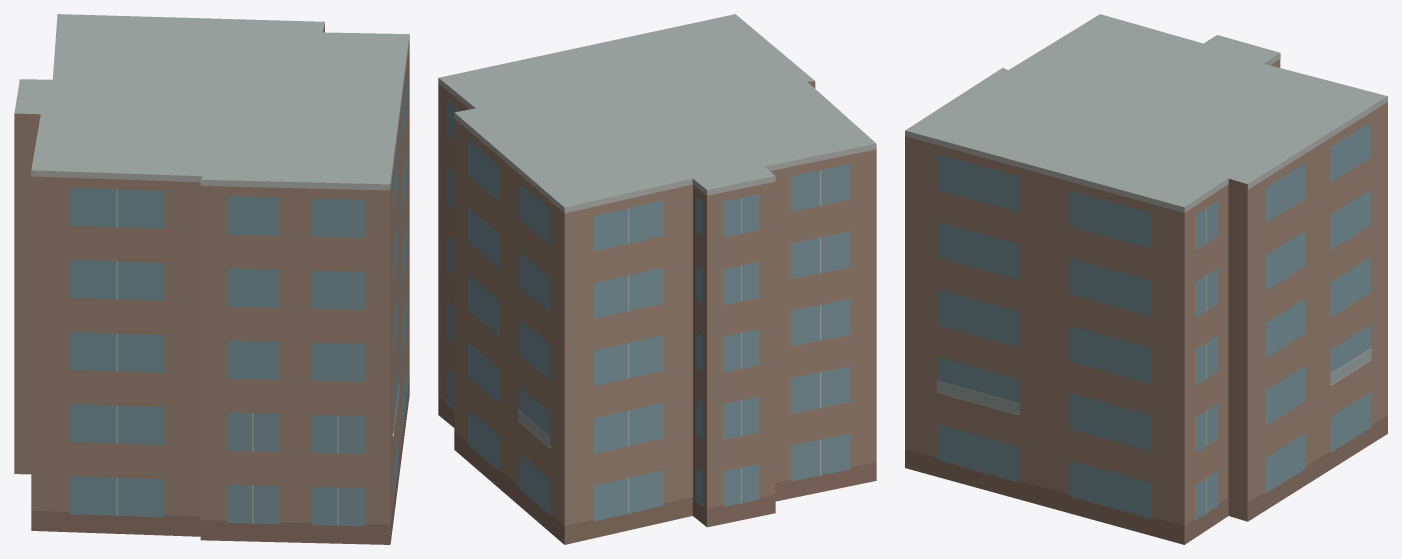
File: survey-upis-32687475.glb
The picture shows the model from 3 angles, left to right: view 1: azimuth 30°, elevation 25°; view 2: azimuth 150°, elevation 25°; view 3: azimuth 270°, elevation 25°; orthographic projection. The views are drawn at different scales.
Parts seen in each view (by area): view 1: survey-upis-32687475.tmp; view 2: survey-upis-32687475.tmp; view 3: survey-upis-32687475.tmp.
Part boxes in pixels (x1=…): survey-upis-32687475.tmp: x1=14, y1=14, x2=409, y2=544; survey-upis-32687475.tmp: x1=438, y1=14, x2=876, y2=544; survey-upis-32687475.tmp: x1=905, y1=14, x2=1387, y2=544.
Bounding box in the file's own units: 17.7 × 14.4 × 18.68.
